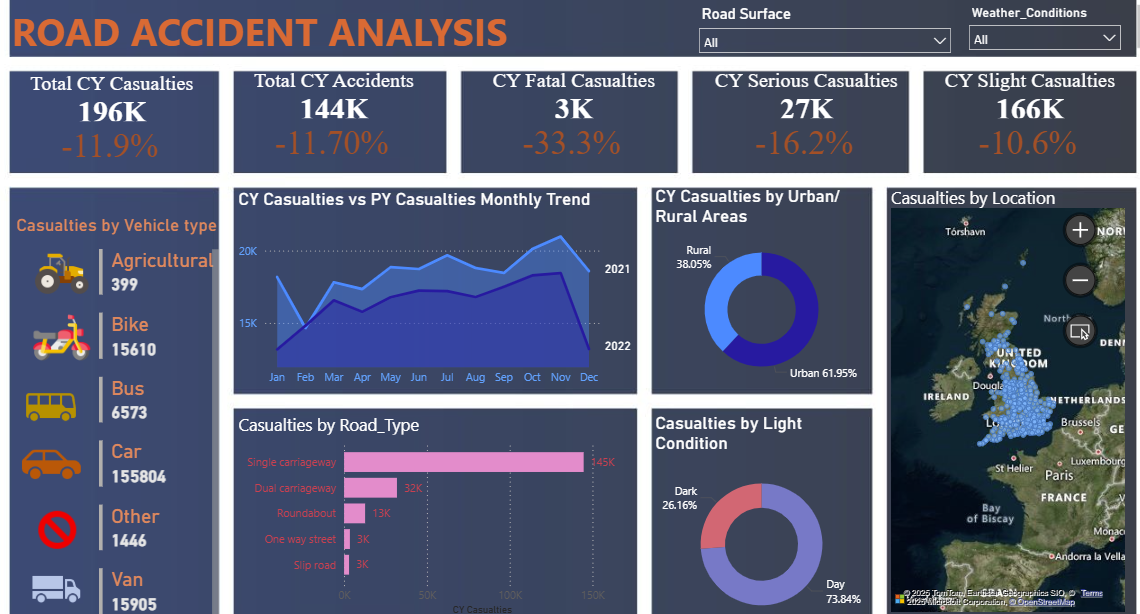

This screenshot's page, from the dashboard's own definition file:
{"tool":"powerbi","page":{"name":"Page 1","canvas":[1280,720],"ordinal":0},"visuals":[{"type":"card","title":"Total CY Accidents","fields":{"Values":["Data.CY Accidents"]},"box":[264,90,222,60],"z":0,"group":"g2"},{"type":"card","title":"CY Fatal Casualties","fields":{"Values":["Data.CY Casualties"]},"box":[530,90,222,60],"z":0,"group":"g3"},{"type":"card","title":"CY Serious Casualties","fields":{"Values":["Data.CY Casualties"]},"box":[788,90,222,60],"z":0,"group":"g4"},{"type":"card","title":"CY Slight Casualties","fields":{"Values":["Data.CY Casualties"]},"box":[1036,90,222,60],"z":0,"group":"g5"},{"type":"group","id":"g1","title":"Group 1","box":[16.7,93.3,221.7,130],"z":0},{"type":"card","title":"Total CY Casualties","fields":{"Values":["Data.CY Casualties"]},"box":[16.7,93.3,222,60],"z":0,"group":"g1"},{"type":"group","id":"g2","title":"Group 1","box":[264,90,222,130],"z":1000},{"type":"card","fields":{"Values":["Data.YOY Accidents"]},"box":[264,120,216,100],"z":1000,"group":"g2"},{"type":"card","fields":{"Values":["Data.YOY Casualties"]},"box":[530,120,216,100],"z":1000,"group":"g3"},{"type":"card","fields":{"Values":["Data.YOY Casualties"]},"box":[788,120,216,100],"z":1000,"group":"g4"},{"type":"card","fields":{"Values":["Data.YOY Casualties"]},"box":[1036,120,216,100],"z":1000,"group":"g5"},{"type":"card","fields":{"Values":["Data.YOY Casualties"]},"box":[16.7,123.3,216,100],"z":1000,"group":"g1"},{"type":"group","id":"g3","title":"Group 1","box":[530,90,222,130],"z":2000},{"type":"group","id":"g4","title":"Group 1","box":[788,90,222,130],"z":3000},{"type":"group","id":"g5","title":"Group 1","box":[1036,90,222,130],"z":4000},{"type":"textbox","box":[12,14,1268,62],"z":5000},{"type":"multiRowCard","fields":{"Values":["Data.Vehicle_Type (groups)","Data.CY Casualties"]},"box":[108.3,285,143.3,430],"z":6000},{"type":"image","box":[11.7,633.3,108.3,68.3],"z":7000},{"type":"image","box":[5,570,123.3,63.3],"z":8000},{"type":"image","box":[0,488.3,120,81.7],"z":9000},{"type":"image","box":[20,430,80,70],"z":10000},{"type":"image","box":[35,346.7,73.3,83.3],"z":11000},{"type":"image","box":[35,273.3,73.3,86.7],"z":12000},{"type":"textbox","box":[16.7,246.7,240,53.3],"z":13000},{"type":"areaChart","title":"CY Casualties vs PY Casualties Monthly Trend","fields":{"Category":["Calendar.Month"],"Y":["Sum(Data.Number_of_Casualties)"],"Series":["Calendar.Date.Variation.Date Hierarchy.Year"]},"box":[263.3,223.3,448.3,226.7],"z":14000},{"type":"donutChart","title":"CY Casualties by Urban/ Rural Areas","fields":{"Category":["Data.Urban_or_Rural_Area"],"Y":["Data.CY Casualties"]},"box":[726.7,220,245,230],"z":15000},{"type":"donutChart","title":"Casualties by Light Condition","fields":{"Y":["Data.CY Casualties"],"Category":["Data.Light_Conditions (groups)"]},"box":[726.7,471.7,245,248.3],"z":16000},{"type":"barChart","title":"Casualties by Road_Type","fields":{"Category":["Data.Road_Type"],"Y":["Data.CY Casualties"]},"box":[263.3,471.7,448.3,230],"z":17000},{"type":"map","title":"Casualties by Location","fields":{"Y":["Data.Latitude"],"X":["Data.Longitude"],"Category":["Data.Local_Authority_(District)"]},"box":[988.3,220,270,478.3],"z":18000},{"type":"slicer","fields":{"Values":["Data.Weather_Conditions (groups)"]},"box":[1070,13.3,188.3,61.7],"z":18001},{"type":"slicer","fields":{"Values":["Data.Road_Surface_Conditions (groups)"]},"box":[770,13.3,300,61.7],"z":18002}]}

Visuals, with their boxes in screenshot pixels (x1, y1, x2, y2):
"Total CY Accidents" card: region(233, 52, 434, 106)
"CY Fatal Casualties" card: region(474, 52, 674, 106)
"CY Serious Casualties" card: region(707, 52, 908, 106)
"CY Slight Casualties" card: region(931, 52, 1132, 106)
"Group 1" group: region(9, 55, 210, 172)
"Total CY Casualties" card: region(9, 55, 210, 109)
"Group 1" group: region(233, 52, 434, 169)
card - Data.YOY Accidents: region(233, 79, 428, 169)
card - Data.YOY Casualties: region(474, 79, 669, 169)
card - Data.YOY Casualties: region(707, 79, 902, 169)
card - Data.YOY Casualties: region(931, 79, 1127, 169)
card - Data.YOY Casualties: region(9, 82, 205, 172)
"Group 1" group: region(474, 52, 674, 169)
"Group 1" group: region(707, 52, 908, 169)
"Group 1" group: region(931, 52, 1132, 169)
textbox: region(5, 0, 1139, 39)
multiRowCard - Data.Vehicle_Type (groups) x Data.CY Casualties: region(92, 228, 222, 613)
image: region(5, 543, 103, 605)
image: region(0, 486, 110, 543)
image: region(0, 412, 103, 486)
image: region(12, 359, 85, 423)
image: region(26, 284, 92, 359)
image: region(26, 218, 92, 296)
textbox: region(9, 194, 226, 242)
"CY Casualties vs PY Casualties Monthly Trend" areaChart: region(232, 172, 638, 377)
"CY Casualties by Urban/ Rural Areas" donutChart: region(652, 169, 873, 377)
"Casualties by Light Condition" donutChart: region(652, 397, 873, 613)
"Casualties by Road_Type" barChart: region(232, 397, 638, 605)
"Casualties by Location" map: region(888, 169, 1132, 602)
slicer - Data.Weather_Conditions (groups): region(962, 0, 1132, 38)
slicer - Data.Road_Surface_Conditions (groups): region(691, 0, 962, 38)
